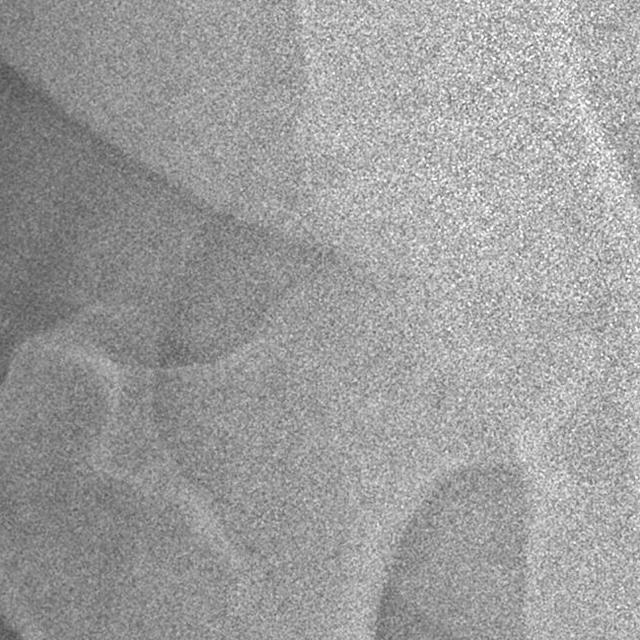Fitted_femural_head: (327, 164, 432, 327)
